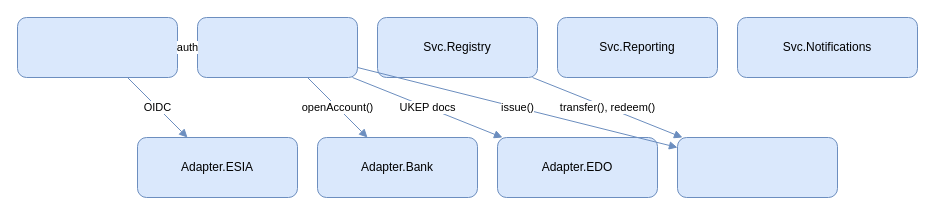
Some shapes in this 935 by 215 pixel diagram are drawn without their labels. Each missing label, with the centre of its shape:
Ledger.SDK: point 757,167
Svc.Identity: point 97,47
Svc.Issuance: point 277,47
